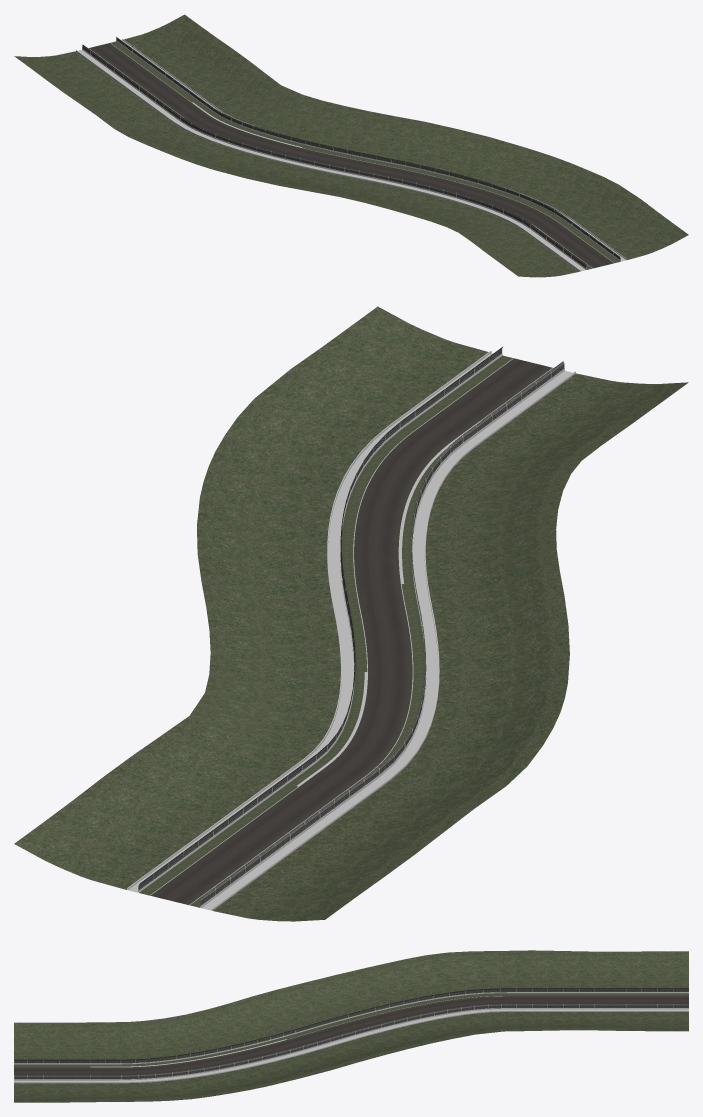
The picture shows the model from 3 angles, top to bottom: view 1: azimuth 30°, elevation 25°; view 2: azimuth 150°, elevation 25°; view 3: azimuth 270°, elevation 25°; orthographic projection. The views are drawn at different scales.
Parts seen in each view (by area): view 1: Grass_Grass.002, Road_Road.002, Track_Track.008, Wirefence_Wirefence.001; view 2: Grass_Grass.002, Road_Road.002, Track_Track.008, Wirefence_Wirefence.001; view 3: Grass_Grass.002, Road_Road.002, Wirefence_Wirefence.001, Track_Track.008.
Part boxes in pixels (x1=…): Grass_Grass.002: x1=14, y1=14, x2=688, y2=277; Road_Road.002: x1=89, y1=43, x2=613, y2=268; Track_Track.008: x1=76, y1=39, x2=626, y2=271; Wirefence_Wirefence.001: x1=82, y1=37, x2=620, y2=268; Grass_Grass.002: x1=14, y1=306, x2=688, y2=921; Road_Road.002: x1=150, y1=358, x2=552, y2=904; Track_Track.008: x1=127, y1=346, x2=575, y2=910; Wirefence_Wirefence.001: x1=138, y1=347, x2=563, y2=905; Grass_Grass.002: x1=14, y1=950, x2=688, y2=1102; Road_Road.002: x1=14, y1=996, x2=688, y2=1075; Wirefence_Wirefence.001: x1=14, y1=988, x2=688, y2=1079; Track_Track.008: x1=14, y1=988, x2=688, y2=1083.
Size of the model in its own units: 265 by 9.45 by 500.
